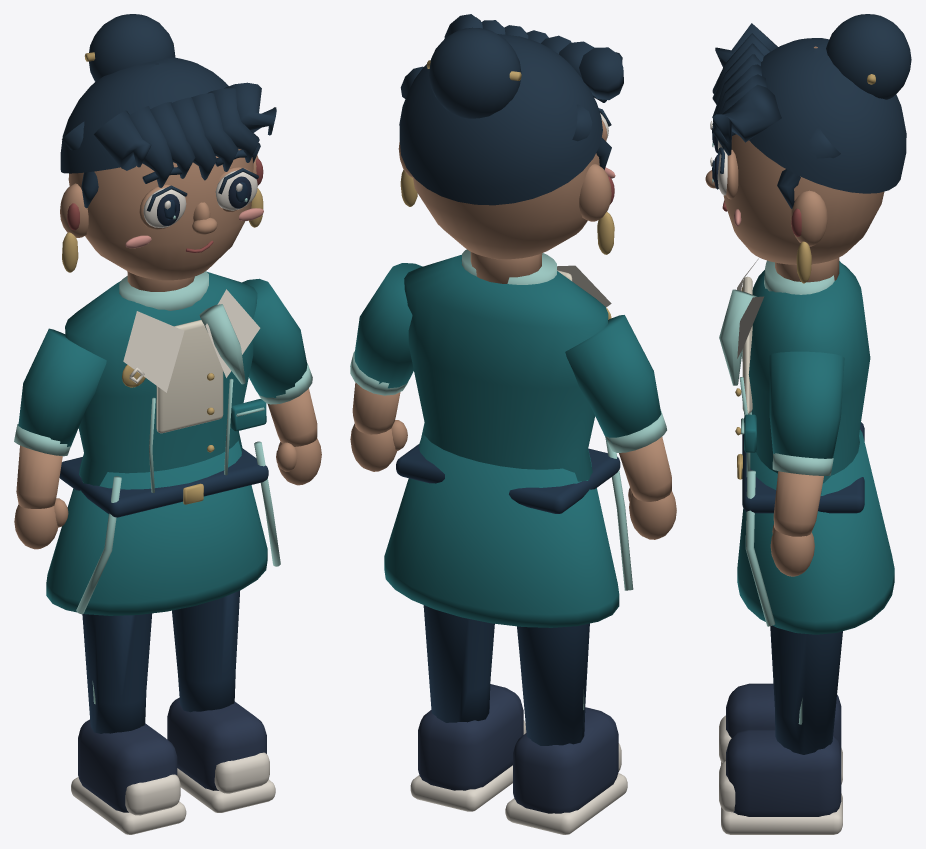
File: xingyin-characters-v1__elite_tide_priest.glb
3 views of the same model, side by side, from view 1: azimuth 30°, elevation 25°; view 2: azimuth 150°, elevation 25°; view 3: azimuth 270°, elevation 25° (orthographic). The views are drawn at different scales.
Visible parts, largest first — view 1: figure.019; view 2: figure.019; view 3: figure.019.
Boxes of the visible parts, x1,y1,x2,y2 form: figure.019: [14, 14, 321, 834]; figure.019: [350, 14, 676, 834]; figure.019: [705, 14, 911, 834].
Bounding box in the file's own units: 1.11 × 2.63 × 0.629.
